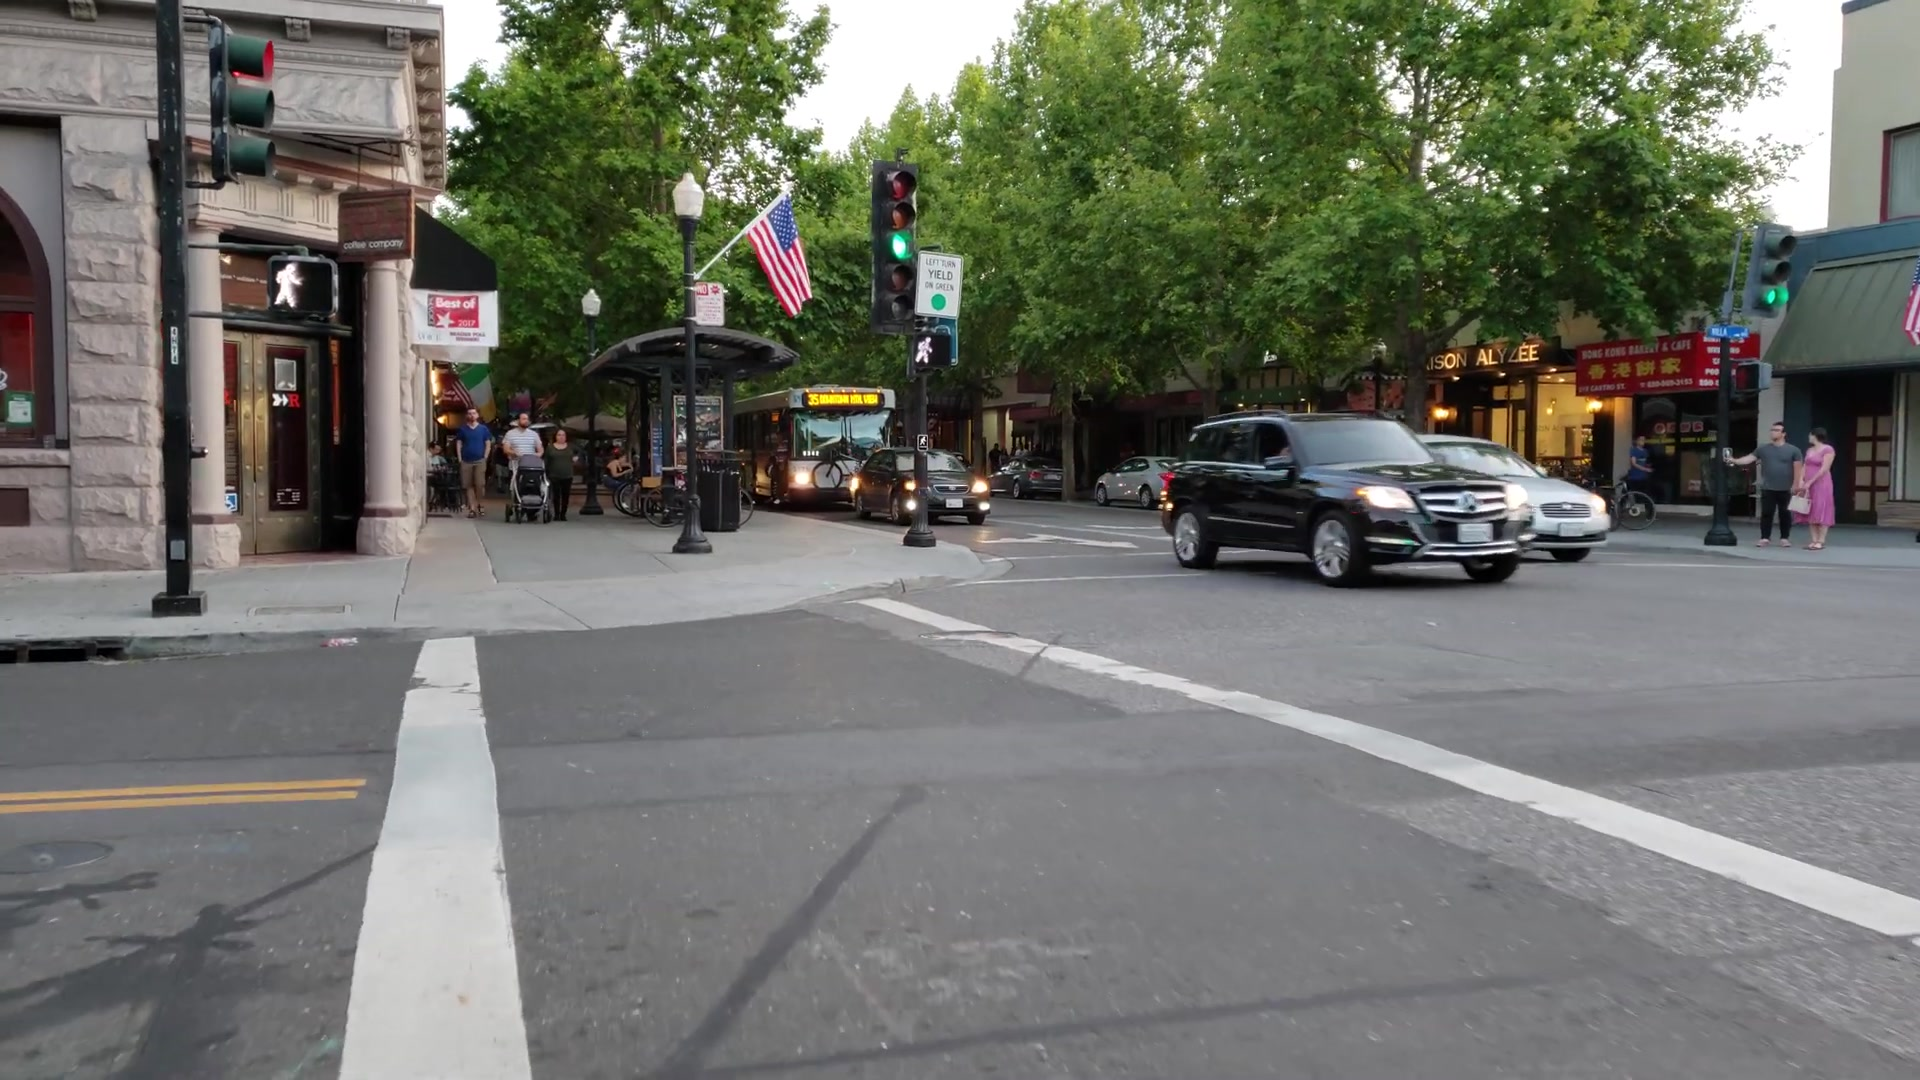vehicle: (1156, 411, 1538, 584), (731, 397, 898, 502), (855, 448, 988, 524)
